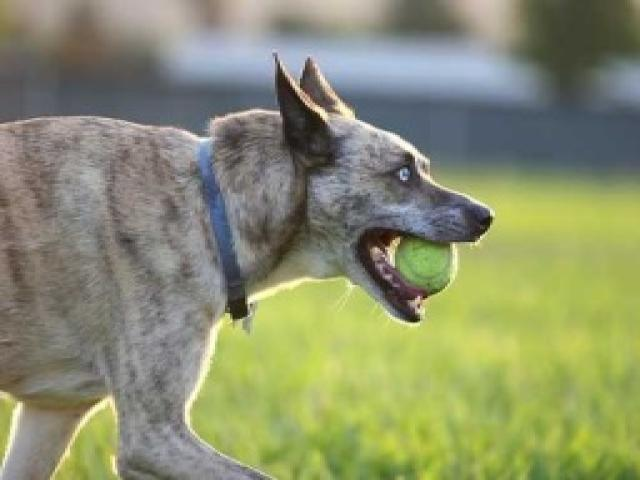tennis-ball: (394, 235, 458, 294)
